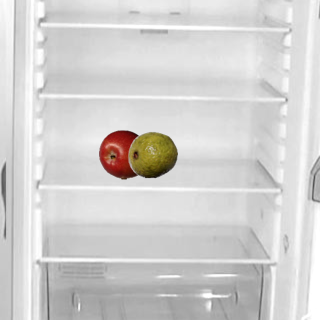Apple Braeburn: (98, 129, 148, 179)
Guava: (127, 129, 177, 179)
